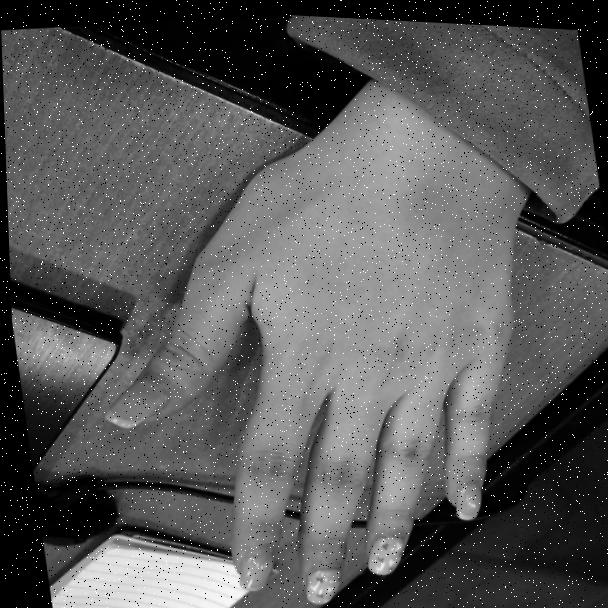five: (81, 160, 526, 608)
